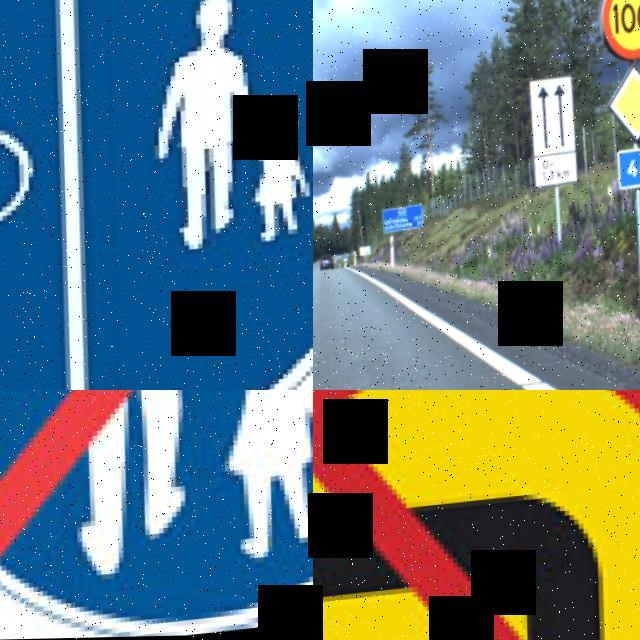112: (0, 390, 313, 640)
172: (612, 141, 640, 195)
181: (533, 153, 582, 190)
5: (381, 200, 431, 238)
55: (593, 0, 640, 71)
57: (599, 55, 640, 149)
66: (524, 70, 588, 160)
99: (0, 0, 313, 390)
no turning left: (313, 390, 640, 640)
